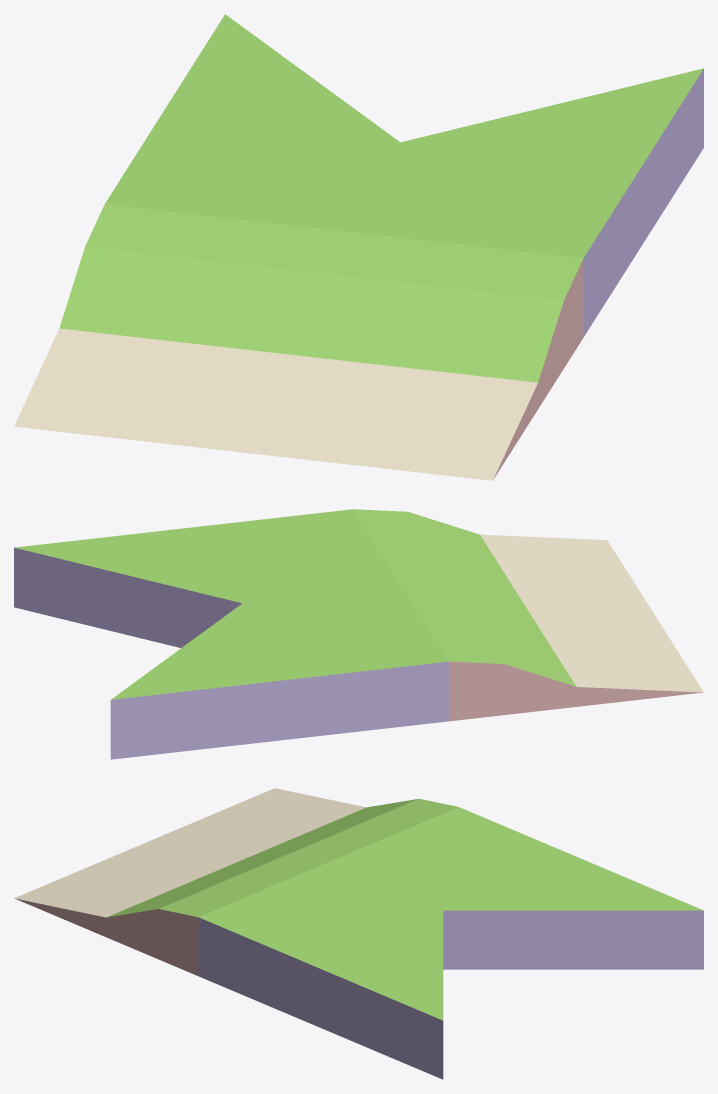
File: Path_Terrain_45_Degrees_Straight_2x2.glb
3 views of the same model, one above another, from view 1: azimuth 30°, elevation 25°; view 2: azimuth 150°, elevation 25°; view 3: azimuth 270°, elevation 25° (orthographic). The views are drawn at different scales.
Visible parts, largest first — view 1: Path_Terrain_45_Degrees_Straight_2x2; view 2: Path_Terrain_45_Degrees_Straight_2x2; view 3: Path_Terrain_45_Degrees_Straight_2x2.
Boxes of the visible parts, box(x1,y1,x2,y2) form: Path_Terrain_45_Degrees_Straight_2x2: box(14, 14, 703, 480); Path_Terrain_45_Degrees_Straight_2x2: box(14, 509, 703, 759); Path_Terrain_45_Degrees_Straight_2x2: box(14, 788, 703, 1079).
Size of the model in its own units: 265 by 25 by 265.
